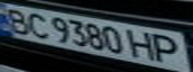0: (103, 24, 127, 55)
3: (66, 18, 87, 47)
8: (84, 20, 106, 52)
9: (45, 14, 72, 44)
B: (0, 5, 33, 35)
C: (21, 10, 51, 39)
H: (127, 28, 160, 62)
P: (148, 33, 187, 64)
